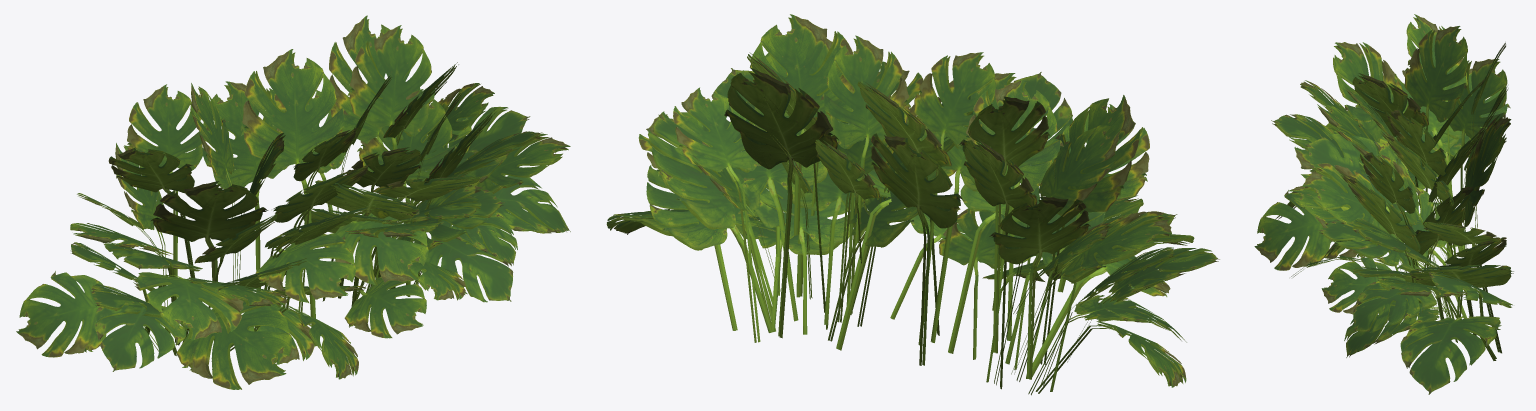
Rendered from NaturePlant05_4.FBX.
The picture shows the model from 3 angles, left to right: view 1: azimuth 30°, elevation 25°; view 2: azimuth 150°, elevation 25°; view 3: azimuth 270°, elevation 25°; orthographic projection. The views are drawn at different scales.
Visible parts, largest first — view 1: NaturePlant05_4; view 2: NaturePlant05_4; view 3: NaturePlant05_4.
Part boxes in pixels (box(x1,y1,x2,y2)): NaturePlant05_4: box(16, 15, 570, 389); NaturePlant05_4: box(606, 14, 1219, 395); NaturePlant05_4: box(1254, 14, 1513, 394).
Size of what is drawn, in the model's own units: 2.28 by 1.09 by 1.08.
